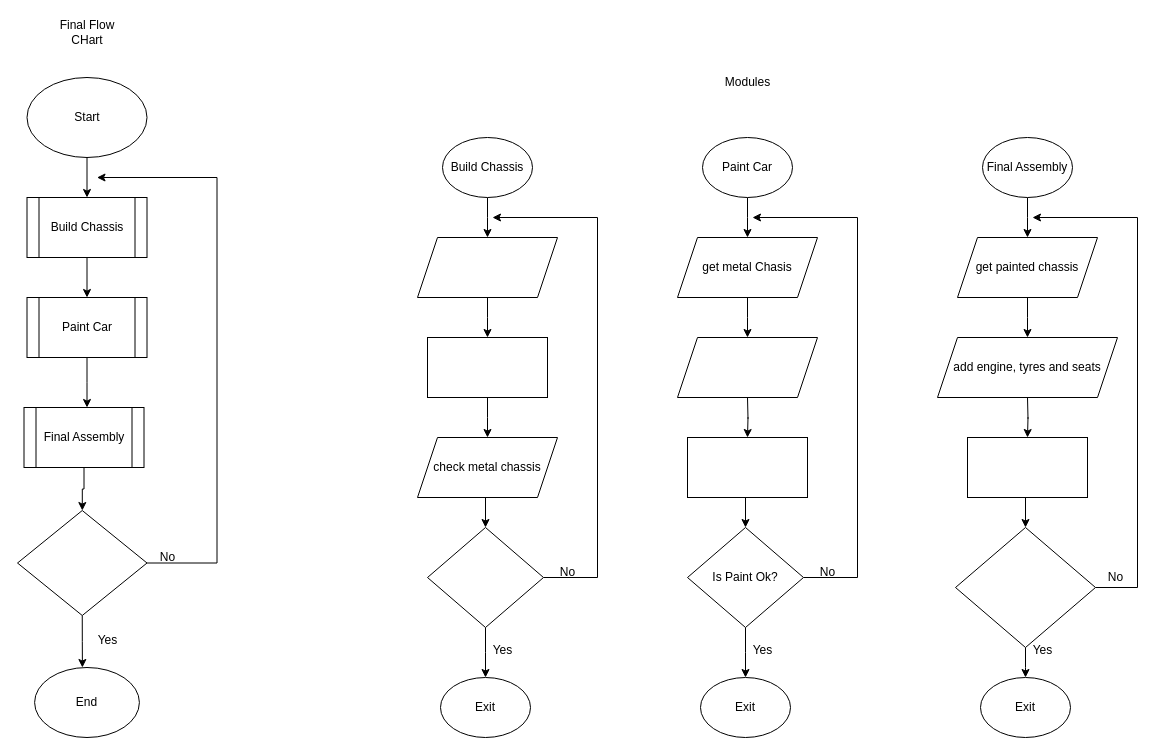
The diagram is 1163 pixels wide and 755 high, and some of its shapes have lost their labels. Each missing label, with the box of its shape:
All Cars Made?: (16, 510, 147, 616)
Ask Colour to Paint: (676, 336, 818, 398)
assemble chassis: (426, 336, 548, 398)
get metal sheet: (416, 236, 558, 298)
Is Car running fine?: (954, 526, 1096, 648)
is chassis build correctly?: (426, 526, 544, 628)
Paint Chassis: (686, 436, 808, 498)
Test Drive: (966, 436, 1088, 498)
